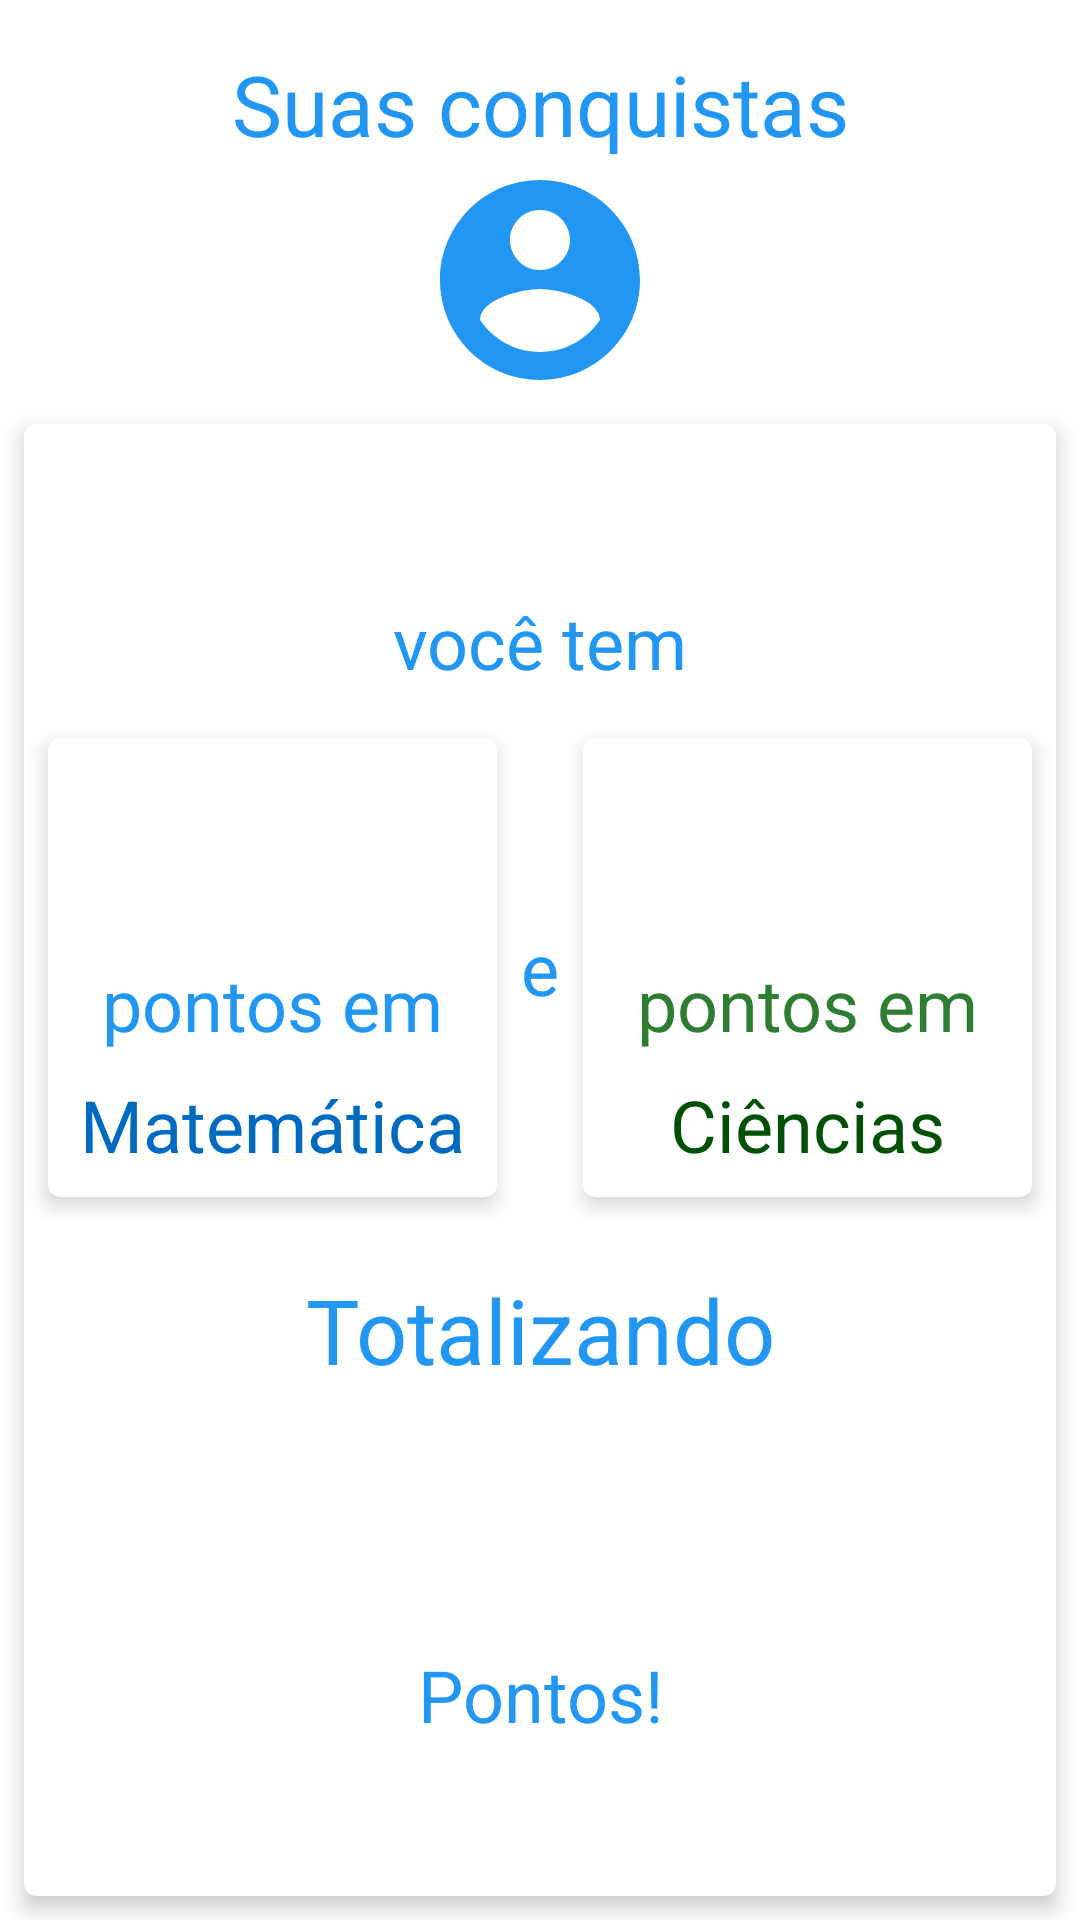

Icon bounding boxes for this 1080px x 1920px phone screenshot, format (x1, y1, x2, y2):
account circle: (440, 180, 640, 380)
